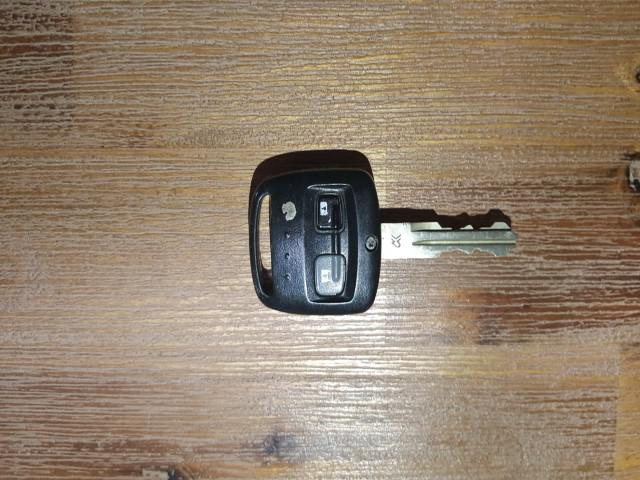key: (252, 161, 512, 480)
